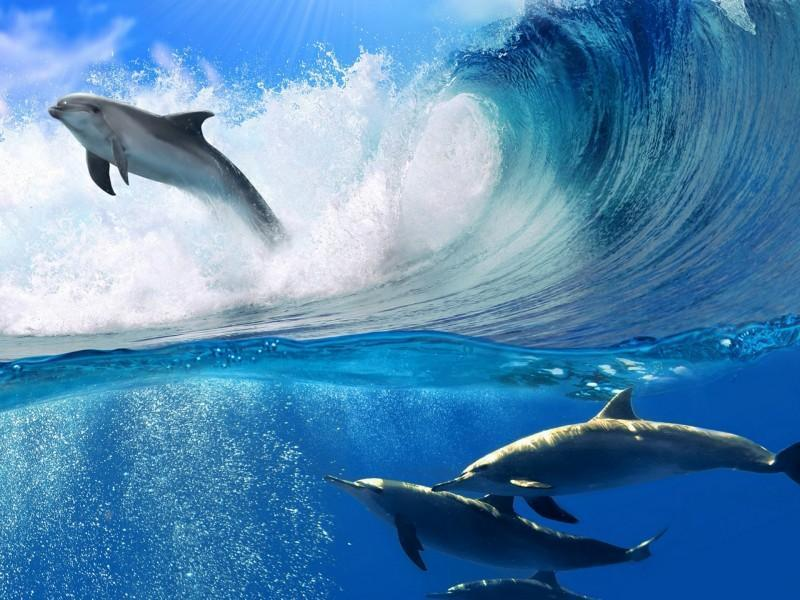fish: (433, 393, 800, 497), (47, 95, 287, 244), (324, 470, 670, 570)
